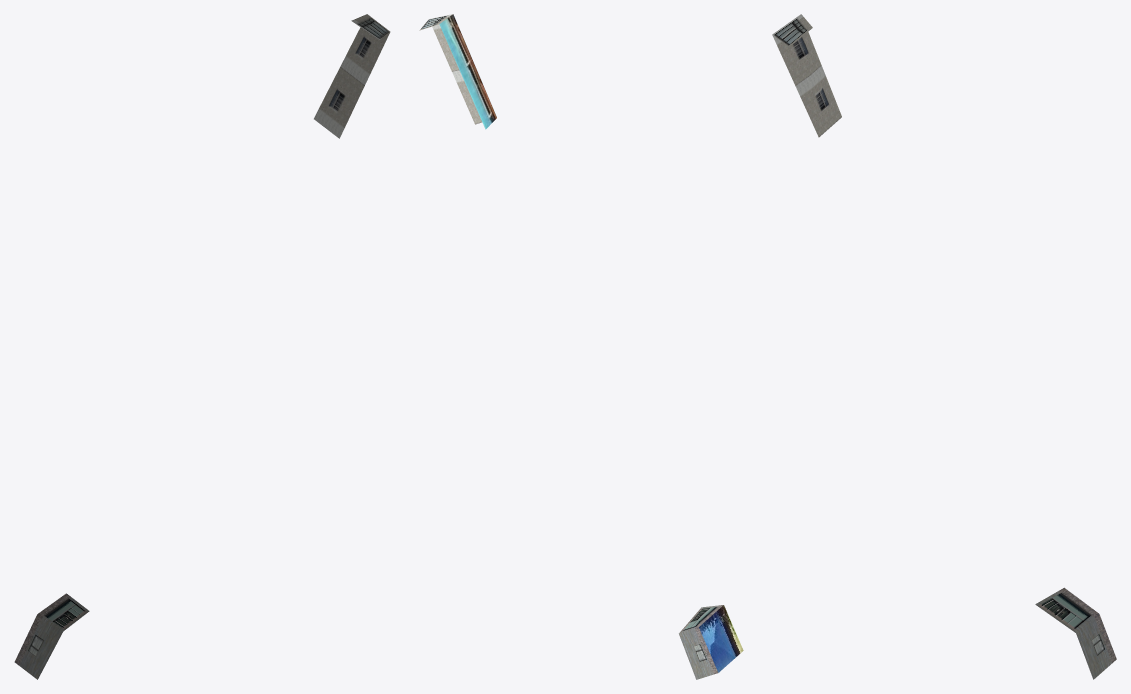
The model's file is tile_LOD8_r0_c5.glb.
3 renders of one model, left to right at view 1: azimuth 30°, elevation 25°; view 2: azimuth 210°, elevation 25°; view 3: azimuth 270°, elevation 25°, orthographic. The views are drawn at different scales.
Bounding box in the file's own units: 24.5 × 69.75 × 29.5.
Materials: 8 (8 with a texture image).
